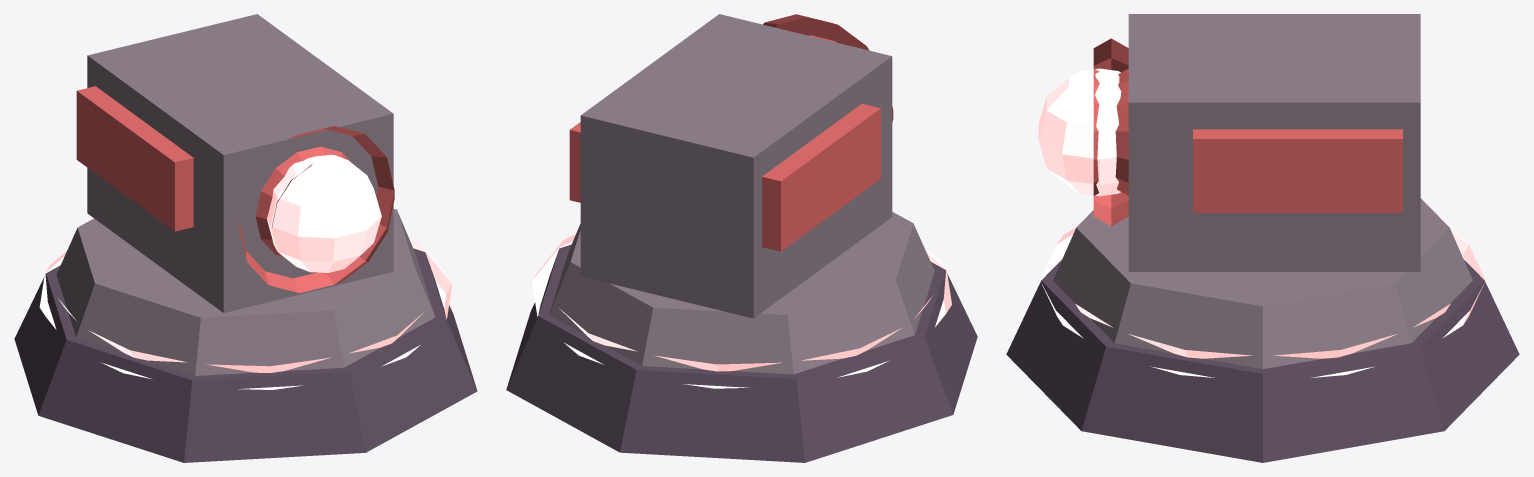
The model's file is laser.glb.
The picture shows the model from 3 angles, left to right: view 1: azimuth 30°, elevation 25°; view 2: azimuth 150°, elevation 25°; view 3: azimuth 270°, elevation 25°; orthographic projection. The views are drawn at different scales.
Size of the model in its own units: 0.88 by 0.5809 by 0.88.
